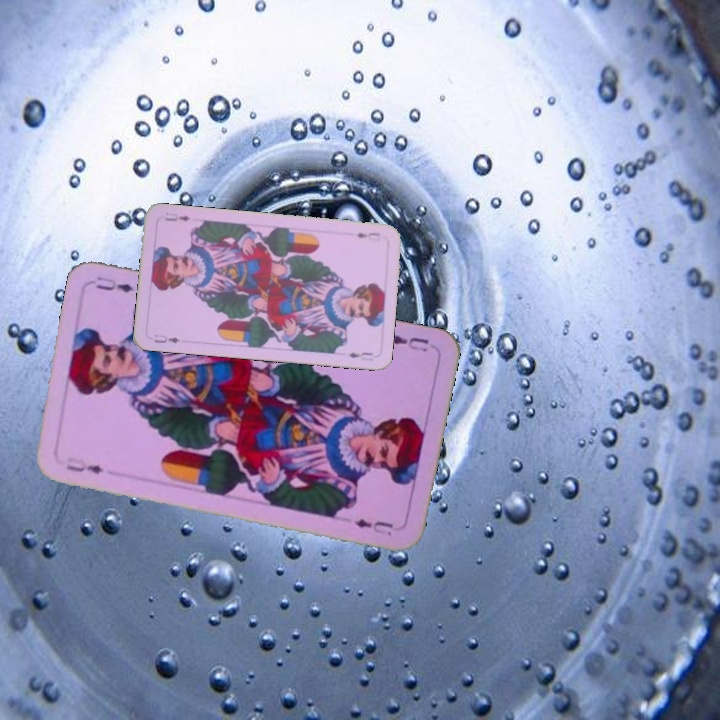EU: (384, 330, 431, 355), (62, 453, 106, 477), (150, 330, 183, 346), (352, 228, 383, 244)
